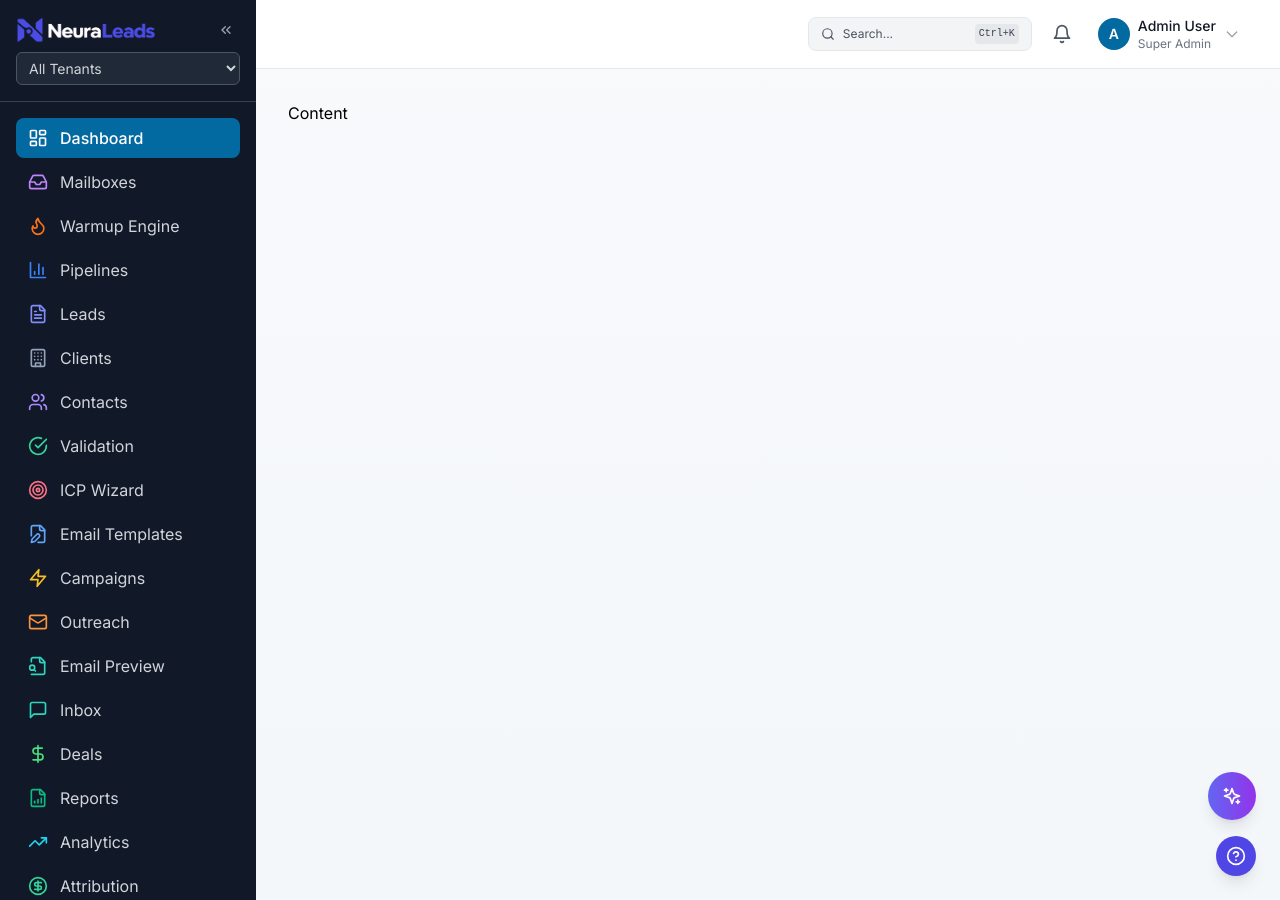
Test: DashboardLayout › Help menu offers documentation, email support and replay tour
Expected: the menu "Help" is not shown
Step 1. Click the button named "Help" → (1236, 856), box [1216,836,1256,876]
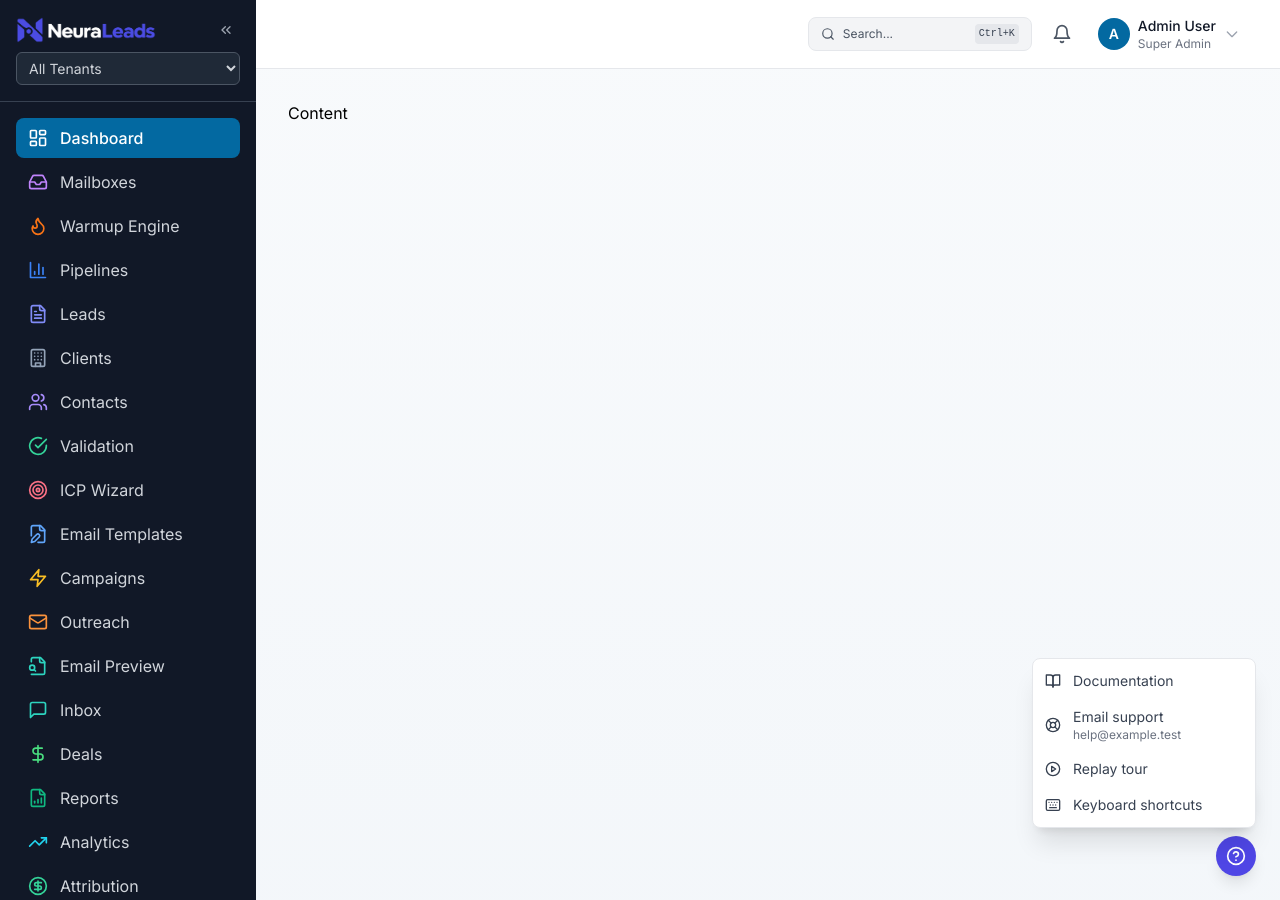
Step 2. Click the menu item "Replay tour" → (1144, 769), box [1033,751,1255,787]
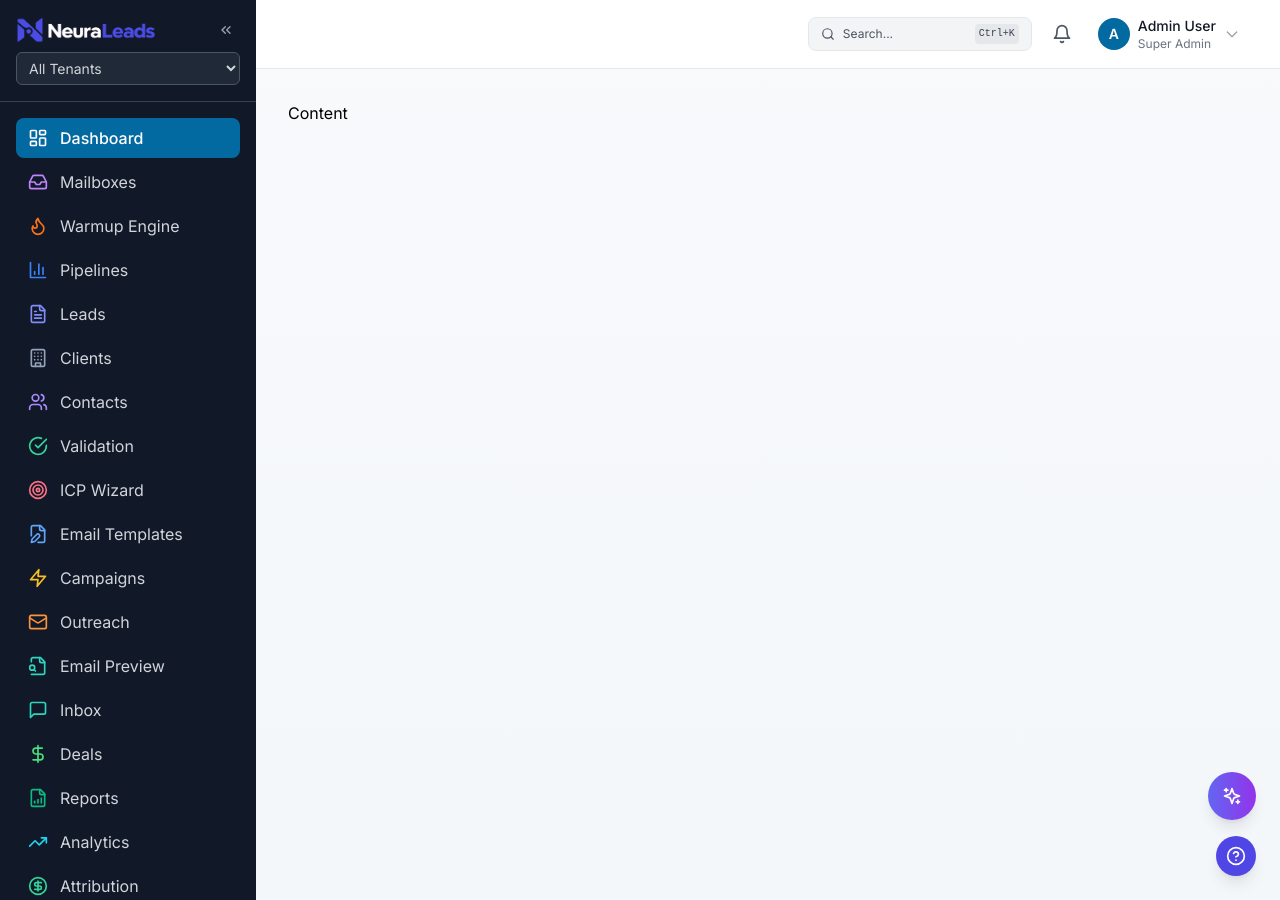
Expected: the menu item "help" is gone
